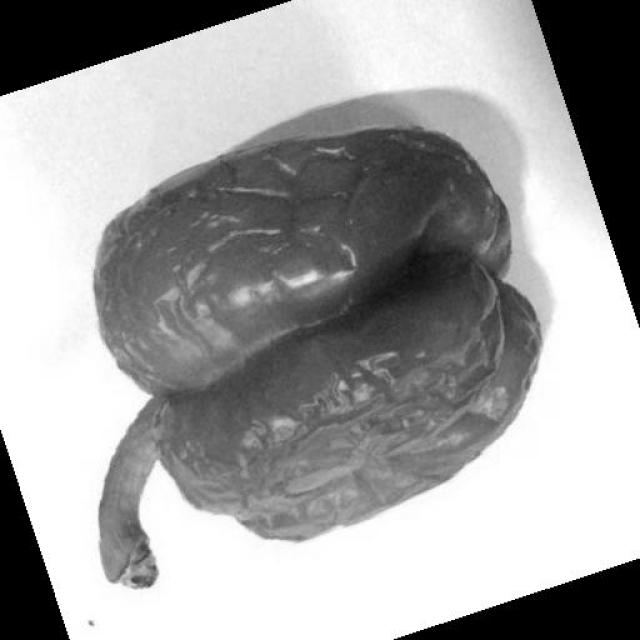Stale_Capsicum: (64, 104, 564, 604)
